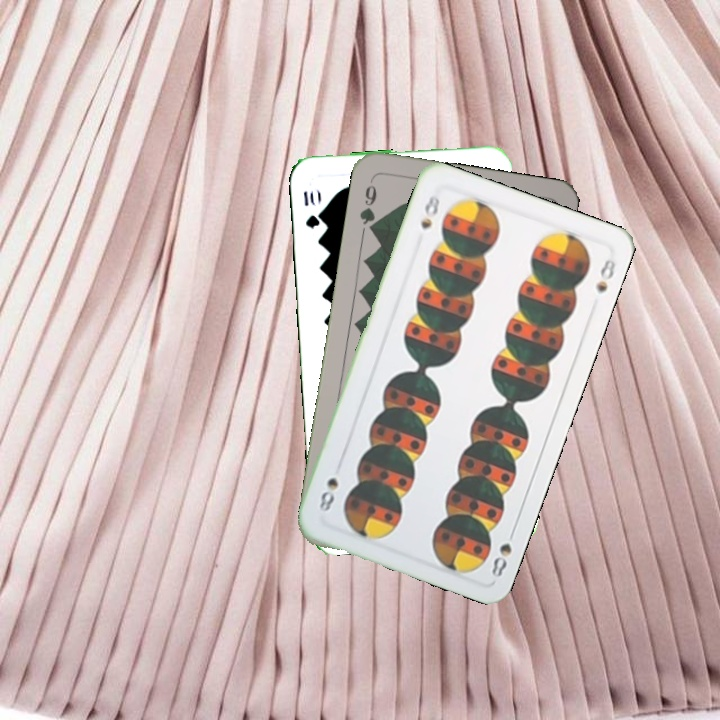G10: (299, 187, 322, 231)
G9: (355, 175, 380, 236)
S8: (487, 523, 519, 581), (416, 190, 443, 232)
